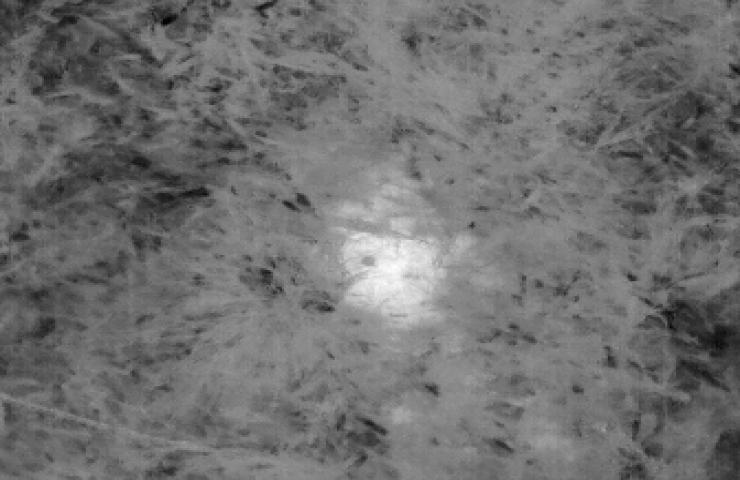landmines: (334, 224, 441, 313)
